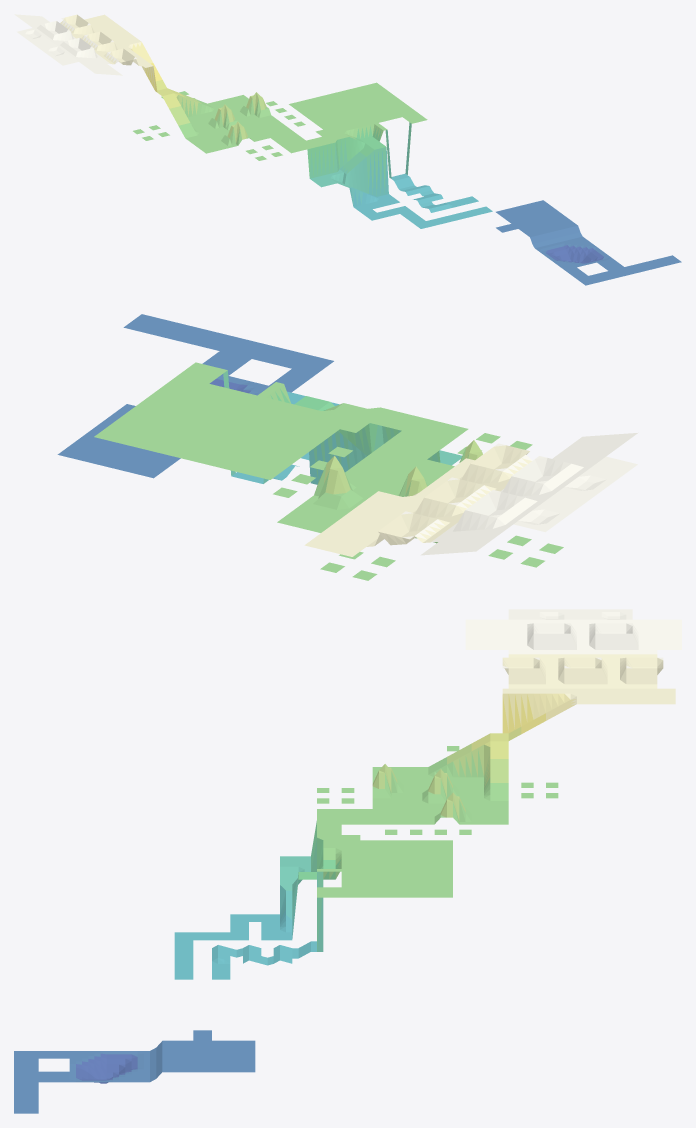
File: beginr-slope.glb
3 views of the same model, one above another, from view 1: azimuth 30°, elevation 25°; view 2: azimuth 150°, elevation 25°; view 3: azimuth 270°, elevation 25° (orthographic). The views are drawn at different scales.
Visible parts, largest first — view 1: beginr-slope; view 2: beginr-slope; view 3: beginr-slope.
Part boxes in pixels (x1,y1,x2,y2): beginr-slope: [14, 14, 681, 285]; beginr-slope: [57, 314, 638, 580]; beginr-slope: [14, 609, 681, 1113].
Size of the model in its own units: 108 by 42.75 by 108.
